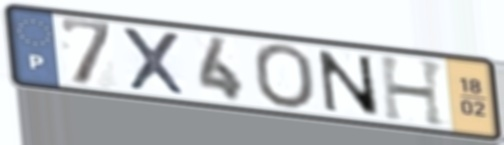4: (196, 34, 248, 104)
7: (59, 16, 116, 89)
H: (376, 54, 449, 130)
N: (314, 48, 385, 120)
O: (250, 42, 318, 111)
X: (118, 24, 191, 99)
